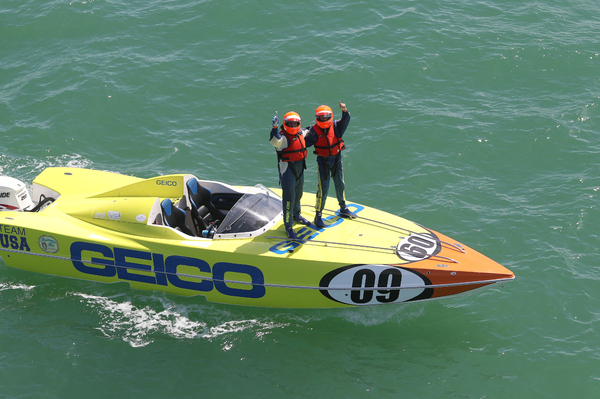geico: (67, 235, 268, 308)
